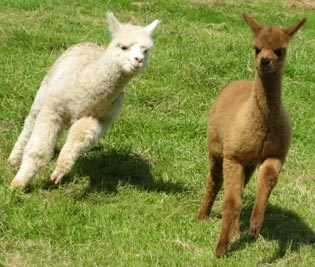alpaca: (8, 9, 161, 192), (198, 12, 306, 260)
